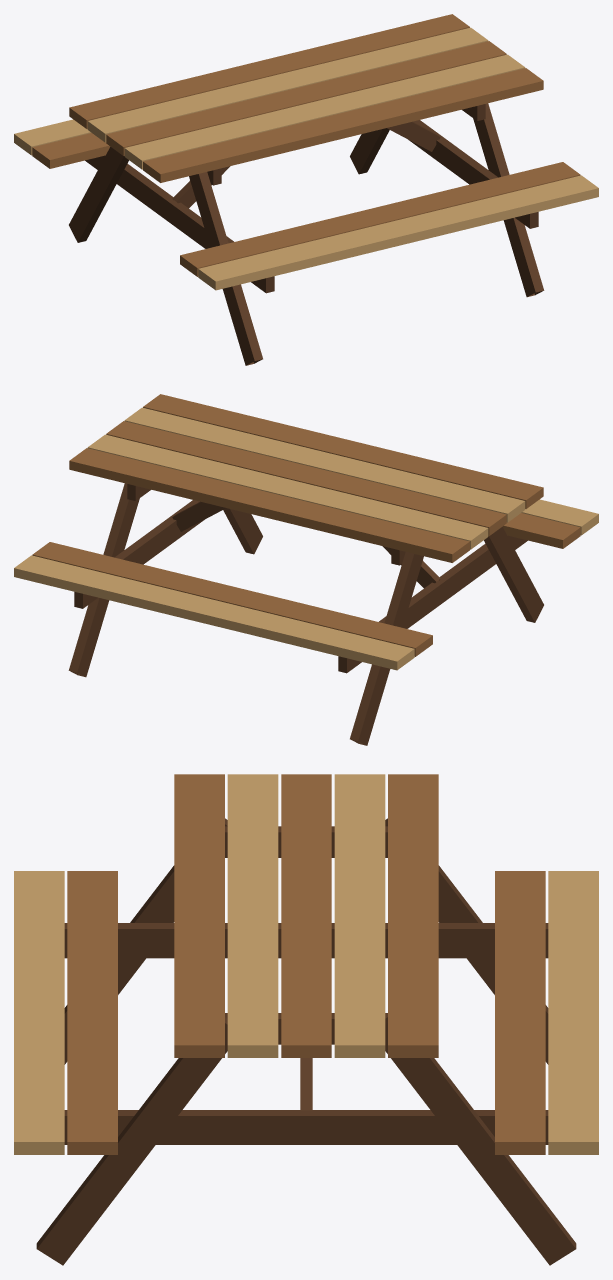
File: prop_picnic_table.glb
The picture shows the model from 3 angles, top to bottom: view 1: azimuth 30°, elevation 25°; view 2: azimuth 150°, elevation 25°; view 3: azimuth 270°, elevation 25°; orthographic projection. The views are drawn at different scales.
Visible parts, largest first — view 1: prop_picnic_table__mesh; view 2: prop_picnic_table__mesh; view 3: prop_picnic_table__mesh.
Part boxes in pixels (x1,y1,x2,y2): prop_picnic_table__mesh: (14,14,598,365); prop_picnic_table__mesh: (14,394,598,745); prop_picnic_table__mesh: (14,774,598,1265).
Size of the model in its own units: 1.8 by 0.7857 by 1.64.
Materials: 1 (1 with a texture image).
